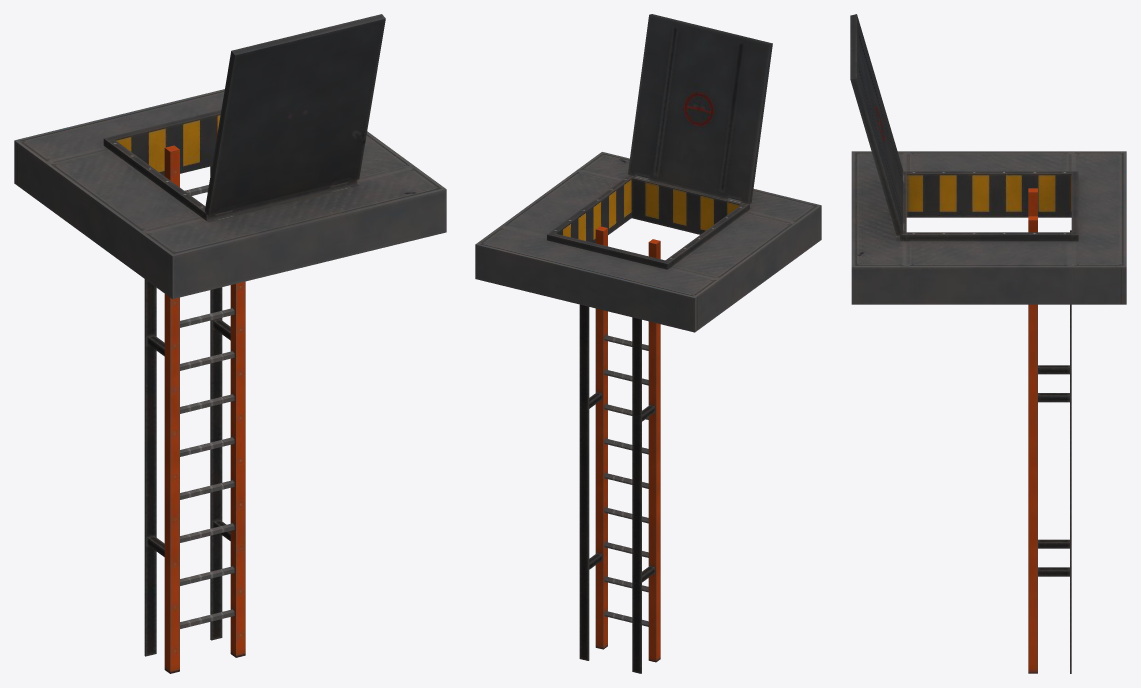
File: deck_hatch.glb
The picture shows the model from 3 angles, left to right: view 1: azimuth 30°, elevation 25°; view 2: azimuth 150°, elevation 25°; view 3: azimuth 270°, elevation 25°; orthographic projection. The views are drawn at different scales.
Visible parts, largest first — view 1: deck_hatch; view 2: deck_hatch; view 3: deck_hatch.
Part boxes in pixels (x1,y1,x2,y2): deck_hatch: [14, 14, 446, 673]; deck_hatch: [475, 14, 821, 673]; deck_hatch: [850, 14, 1126, 673].
Size of the model in its own units: 2 by 4.91 by 2.01.
Materials: 1 (1 with a texture image).
